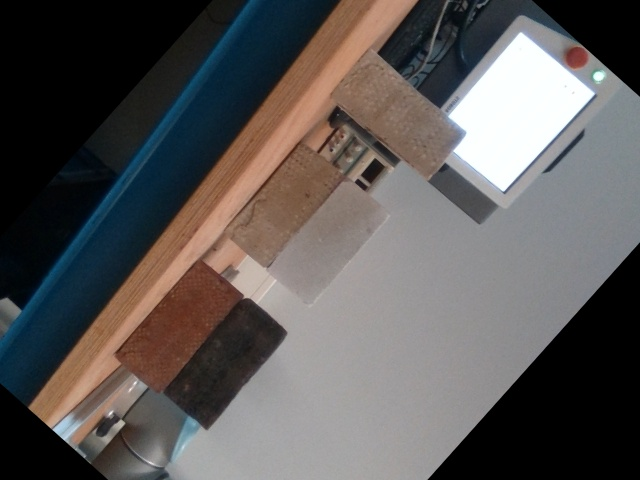brick: (115, 260, 240, 390), (335, 52, 462, 173), (166, 302, 285, 427), (268, 179, 387, 304), (227, 145, 339, 263)
